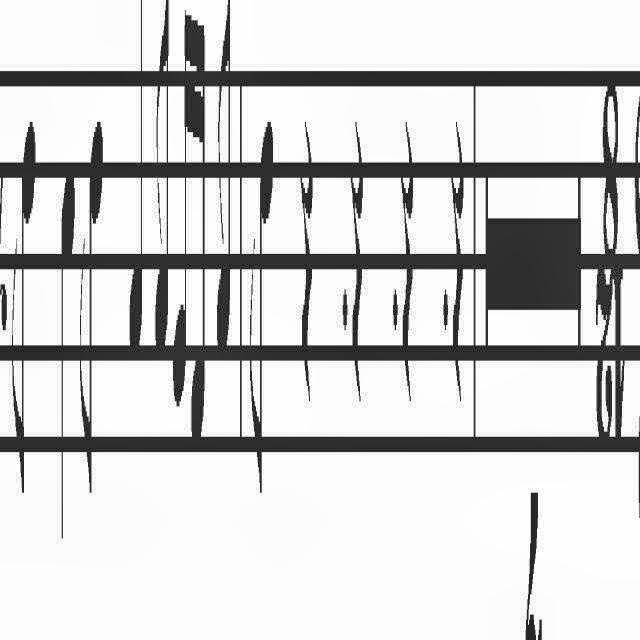Bass-clef: (631, 0, 640, 640), (639, 0, 640, 640)
Eighth-note: (246, 52, 280, 544), (78, 41, 109, 482), (11, 76, 41, 524), (212, 1, 236, 392), (152, 1, 172, 392)
Eighth-rest: (0, 173, 8, 371)
Quarter-note: (124, 0, 148, 386), (55, 136, 77, 544)
Quarter-rest: (348, 42, 372, 478), (451, 0, 471, 472), (296, 42, 320, 422), (400, 45, 420, 428)
Sixteenth-note: (170, 0, 190, 468), (190, 1, 208, 483)
